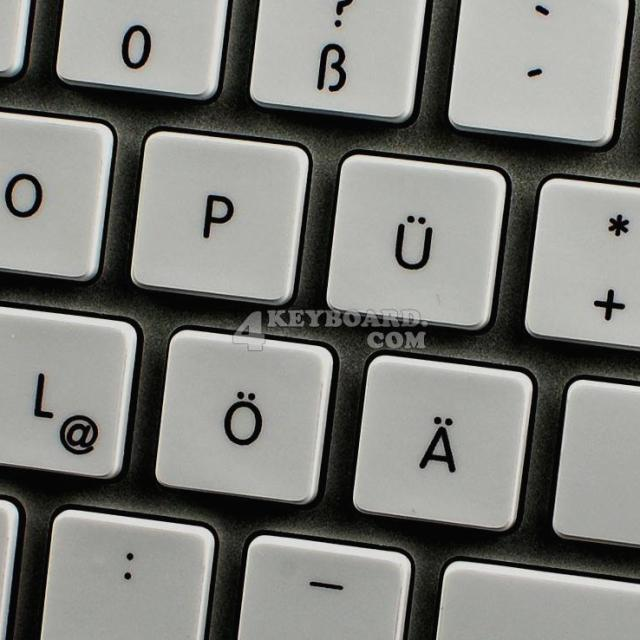0: (53, 1, 231, 101)
accent: (443, 0, 630, 148)
ae: (352, 348, 533, 532)
l: (0, 300, 139, 480)
minus: (239, 524, 414, 640)
o: (0, 99, 114, 283)
oe: (154, 319, 334, 507)
p: (125, 125, 311, 306)
plus: (522, 170, 640, 354)
point: (36, 499, 217, 640)
ss: (247, 0, 430, 125)
ue: (320, 145, 510, 339)
